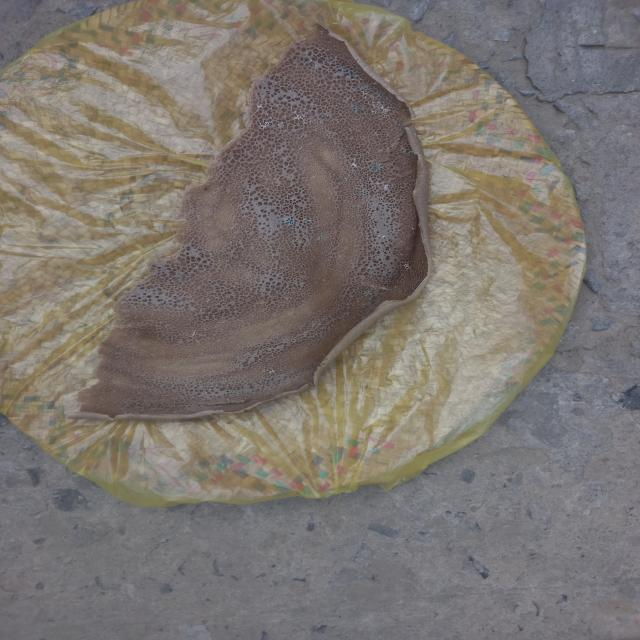injera_mold: (293, 112, 309, 124), (256, 119, 270, 129), (368, 163, 382, 172), (402, 260, 412, 272), (381, 103, 388, 116), (284, 218, 296, 225), (370, 101, 379, 109), (382, 184, 391, 192), (351, 104, 359, 112), (301, 57, 311, 63), (348, 72, 356, 79), (350, 161, 358, 168), (364, 290, 372, 297), (309, 174, 318, 180), (298, 145, 306, 151), (256, 103, 264, 109), (372, 131, 380, 137), (302, 218, 311, 223), (363, 85, 369, 92), (345, 96, 352, 102), (396, 125, 402, 132), (269, 369, 276, 375), (343, 176, 350, 182), (410, 226, 416, 232), (372, 80, 378, 86), (328, 56, 334, 62), (408, 150, 414, 155), (361, 190, 366, 196), (318, 235, 323, 241), (371, 110, 378, 114), (242, 206, 249, 210), (361, 93, 370, 96), (387, 119, 392, 124), (378, 92, 384, 96), (390, 100, 394, 106), (382, 234, 386, 240), (388, 268, 392, 274), (306, 50, 312, 54), (395, 228, 401, 232), (320, 30, 324, 35), (386, 248, 390, 253), (203, 391, 209, 394), (270, 116, 274, 120), (325, 114, 329, 118), (252, 116, 256, 120), (400, 253, 405, 256), (232, 240, 237, 243), (331, 89, 336, 92), (338, 68, 341, 72), (281, 121, 284, 125), (174, 411, 178, 414), (178, 406, 184, 408), (249, 99, 253, 102), (255, 110, 260, 112), (173, 401, 176, 404), (258, 243, 261, 246), (226, 399, 230, 401), (335, 104, 339, 106), (288, 64, 290, 68), (303, 38, 306, 40), (210, 385, 212, 388), (245, 398, 248, 400), (228, 389, 230, 391), (232, 390, 234, 392)
